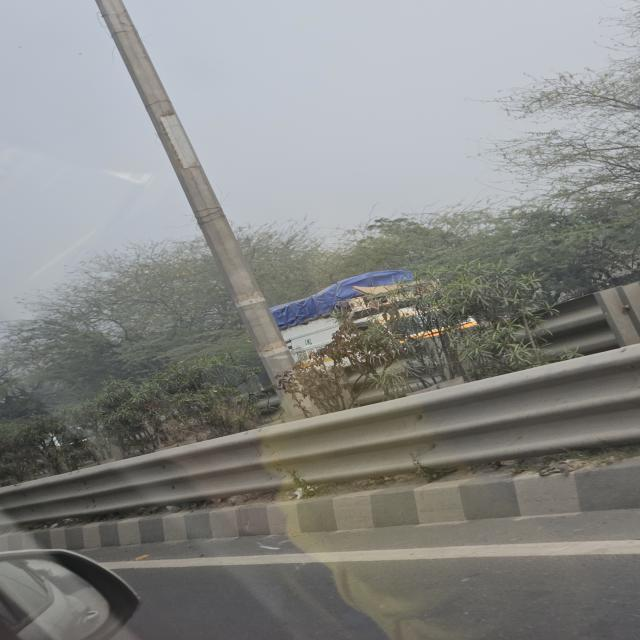covered: (233, 274, 487, 360)
